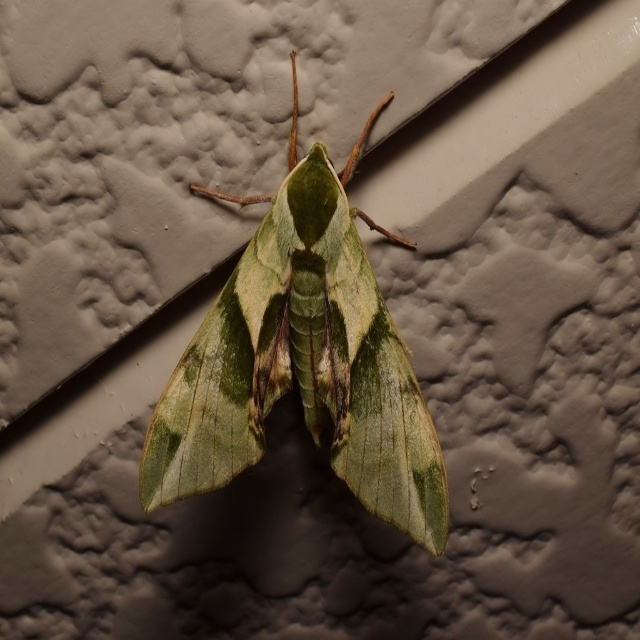Moths and butterflies: (139, 50, 450, 557)
